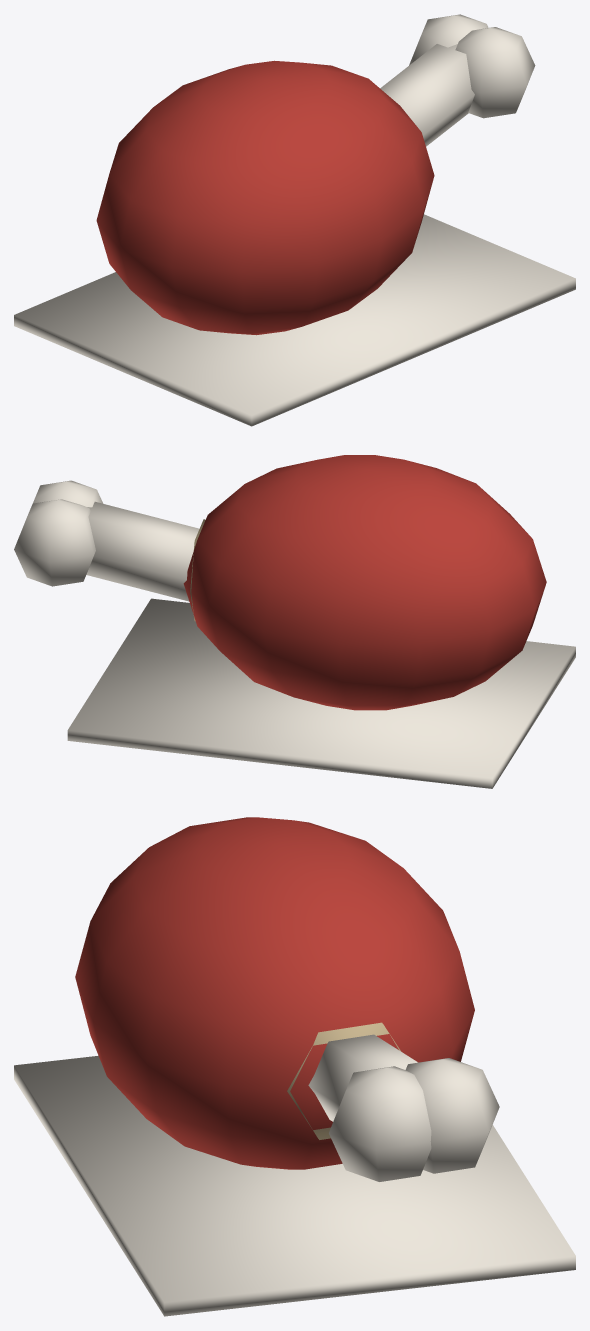
The model's file is item_meat.glb.
3 renders of one model, top to bottom at view 1: azimuth 30°, elevation 25°; view 2: azimuth 150°, elevation 25°; view 3: azimuth 270°, elevation 25°, orthographic. The views are drawn at different scales.
Visible parts, largest first — view 1: item_meat; view 2: item_meat; view 3: item_meat.
Part boxes in pixels (box(x1,y1,x2,y2)): item_meat: box(14, 14, 575, 426); item_meat: box(14, 455, 575, 788); item_meat: box(14, 817, 575, 1316).
Size of the model in its own units: 0.3791 by 0.175 by 0.2901.
